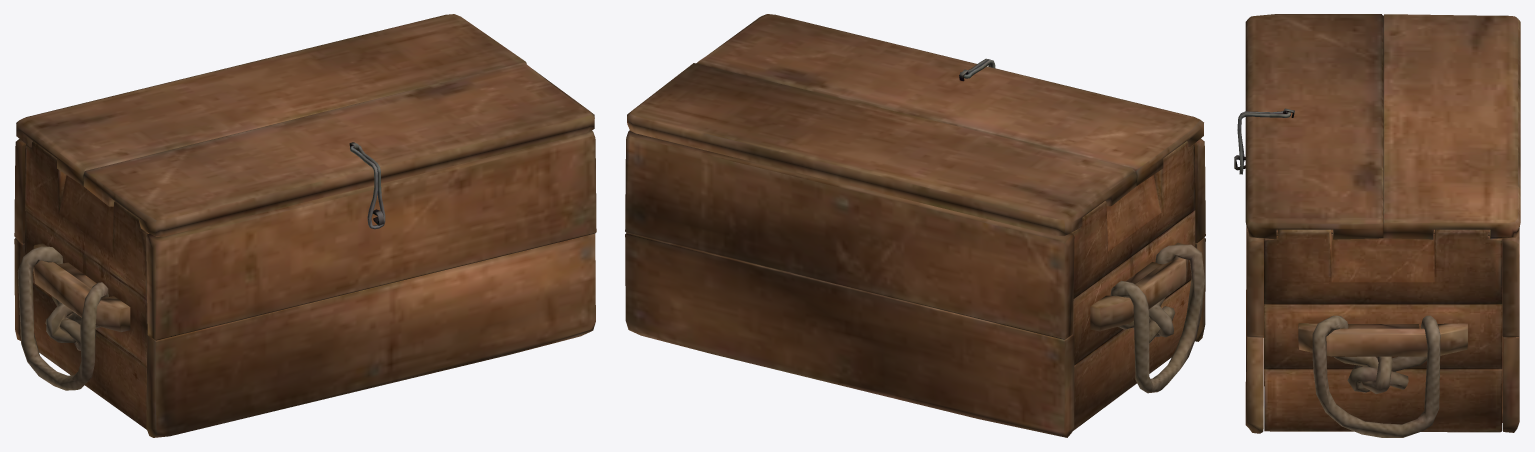
The model's file is wooden_crate_01.glb.
3 views of the same model, side by side, from view 1: azimuth 30°, elevation 25°; view 2: azimuth 150°, elevation 25°; view 3: azimuth 270°, elevation 25° (orthographic). The views are drawn at different scales.
Parts seen in each view (by area): view 1: wooden_crate_01, wooden_crate_01_lid, wooden_crate_01_latch; view 2: wooden_crate_01, wooden_crate_01_lid; view 3: wooden_crate_01_lid, wooden_crate_01, wooden_crate_01_latch.
Boxes of the visible parts, x1=… form: wooden_crate_01: x1=14, y1=131, x2=596, y2=437; wooden_crate_01_lid: x1=16, y1=14, x2=594, y2=236; wooden_crate_01_latch: x1=350, y1=145, x2=385, y2=229; wooden_crate_01: x1=625, y1=130, x2=1205, y2=437; wooden_crate_01_lid: x1=627, y1=14, x2=1203, y2=236; wooden_crate_01_lid: x1=1245, y1=14, x2=1520, y2=239; wooden_crate_01: x1=1234, y1=155, x2=1519, y2=437; wooden_crate_01_latch: x1=1237, y1=111, x2=1290, y2=174.
Bounding box in the file's own units: 0.8245 × 0.3471 × 0.4069.
Materials: 1 (1 with a texture image).
